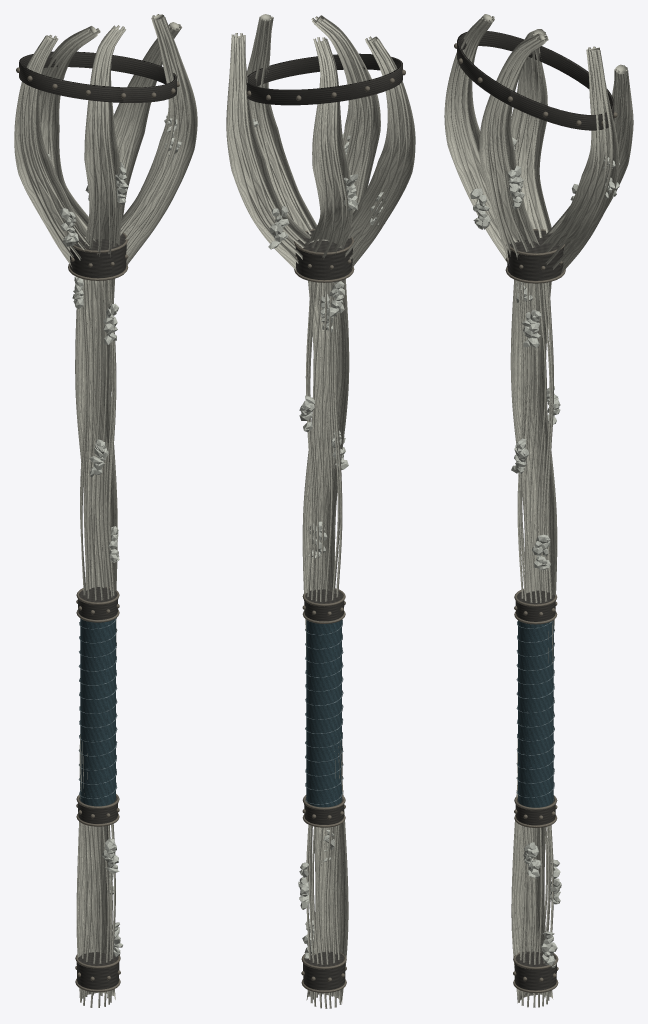
The model's file is tideworn_staff.glb.
The picture shows the model from 3 angles, left to right: view 1: azimuth 30°, elevation 25°; view 2: azimuth 150°, elevation 25°; view 3: azimuth 330°, elevation 25°; orthographic projection.
Parts seen in each view (by area): view 1: Salt bleached oak, Weathered forged iron, Worn wrapped grip, Granular salt deposits, Worn metal edge and rivets, Leather strap burnished edges; view 2: Salt bleached oak, Weathered forged iron, Worn wrapped grip, Granular salt deposits, Worn metal edge and rivets, Leather strap burnished edges; view 3: Salt bleached oak, Weathered forged iron, Worn wrapped grip, Granular salt deposits, Worn metal edge and rivets, Leather strap burnished edges.
Part boxes in pixels (x1,y1,x2,y2): Salt bleached oak: [14, 14, 197, 1007]; Weathered forged iron: [19, 51, 176, 989]; Worn wrapped grip: [80, 618, 115, 806]; Granular salt deposits: [48, 115, 181, 956]; Worn metal edge and rivets: [16, 67, 179, 992]; Leather strap burnished edges: [78, 618, 117, 798]; Salt bleached oak: [226, 14, 415, 1008]; Weathered forged iron: [246, 53, 402, 990]; Worn wrapped grip: [306, 620, 341, 807]; Granular salt deposits: [252, 119, 387, 958]; Worn metal edge and rivets: [246, 69, 405, 992]; Leather strap burnished edges: [305, 619, 343, 804]; Salt bleached oak: [444, 14, 633, 1007]; Weathered forged iron: [457, 31, 614, 990]; Worn wrapped grip: [518, 620, 553, 807]; Granular salt deposits: [470, 137, 619, 967]; Worn metal edge and rivets: [454, 43, 617, 993]; Leather strap burnished edges: [516, 621, 554, 800].
Bounding box in the file's own units: 0.3498 × 1.88 × 0.2228.
Materials: 6 (6 with a texture image).
